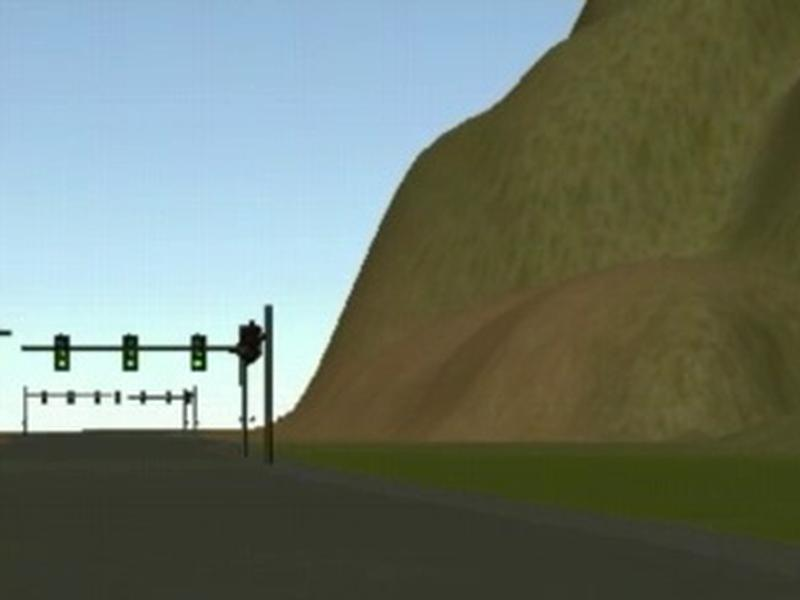Green: (122, 334, 138, 371), (54, 333, 69, 371), (192, 335, 206, 370)
